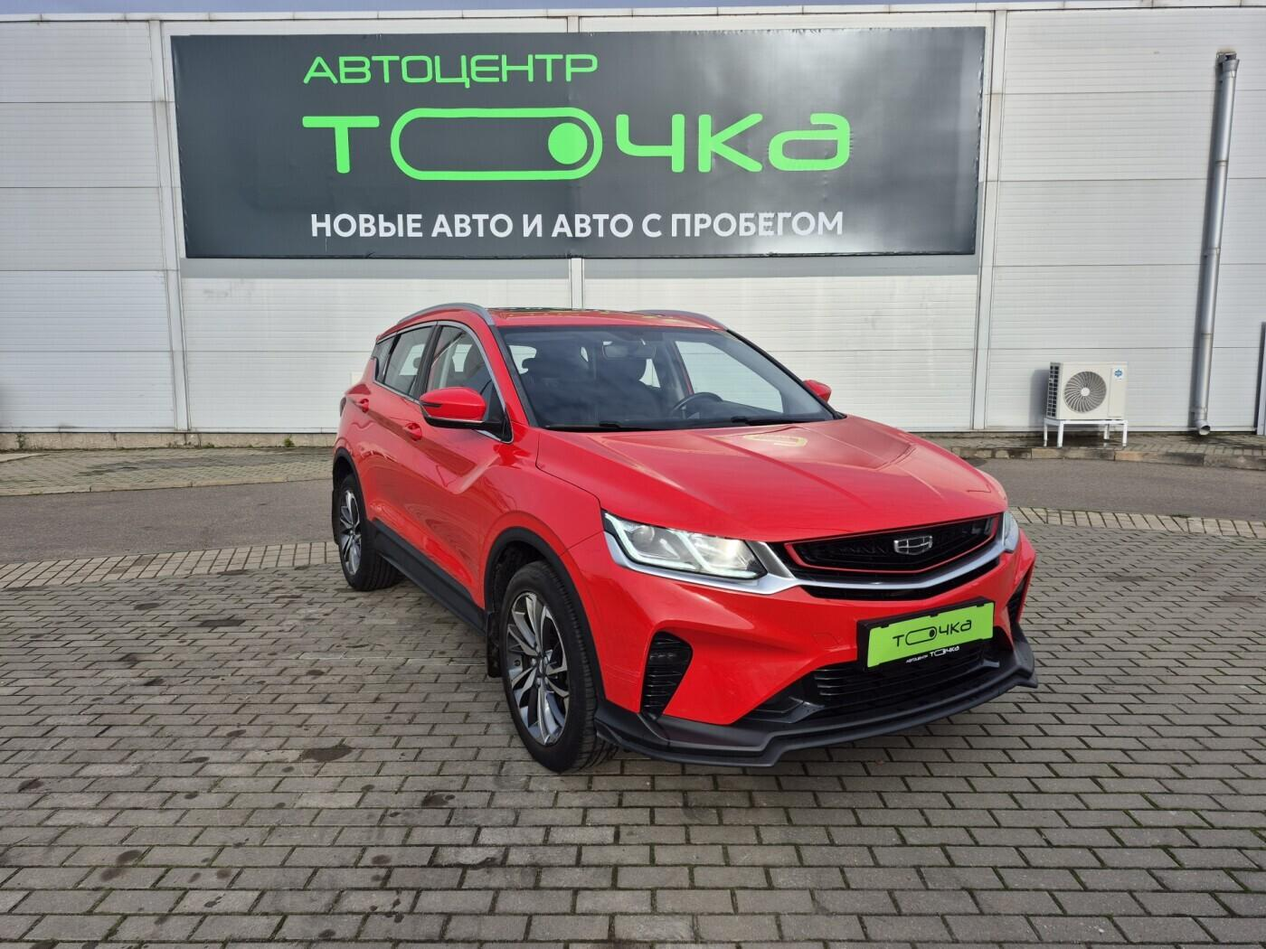Coolray_2019-2023: (332, 294, 1041, 782)
